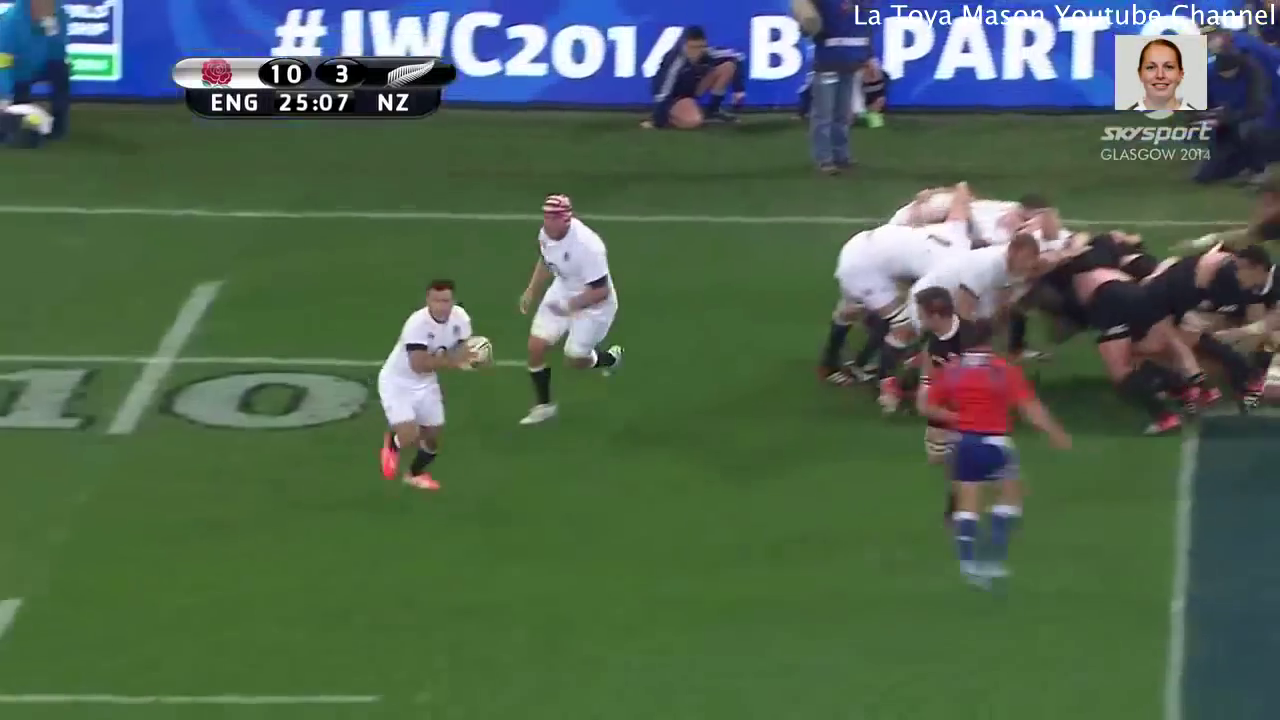10_metre: (1, 268, 549, 452), (1, 587, 404, 720)
ball: (449, 326, 499, 390)
player: (916, 319, 1083, 604), (1046, 228, 1213, 446), (507, 184, 638, 455), (359, 267, 505, 509), (814, 217, 963, 401), (900, 288, 1001, 390), (1219, 240, 1280, 359)
